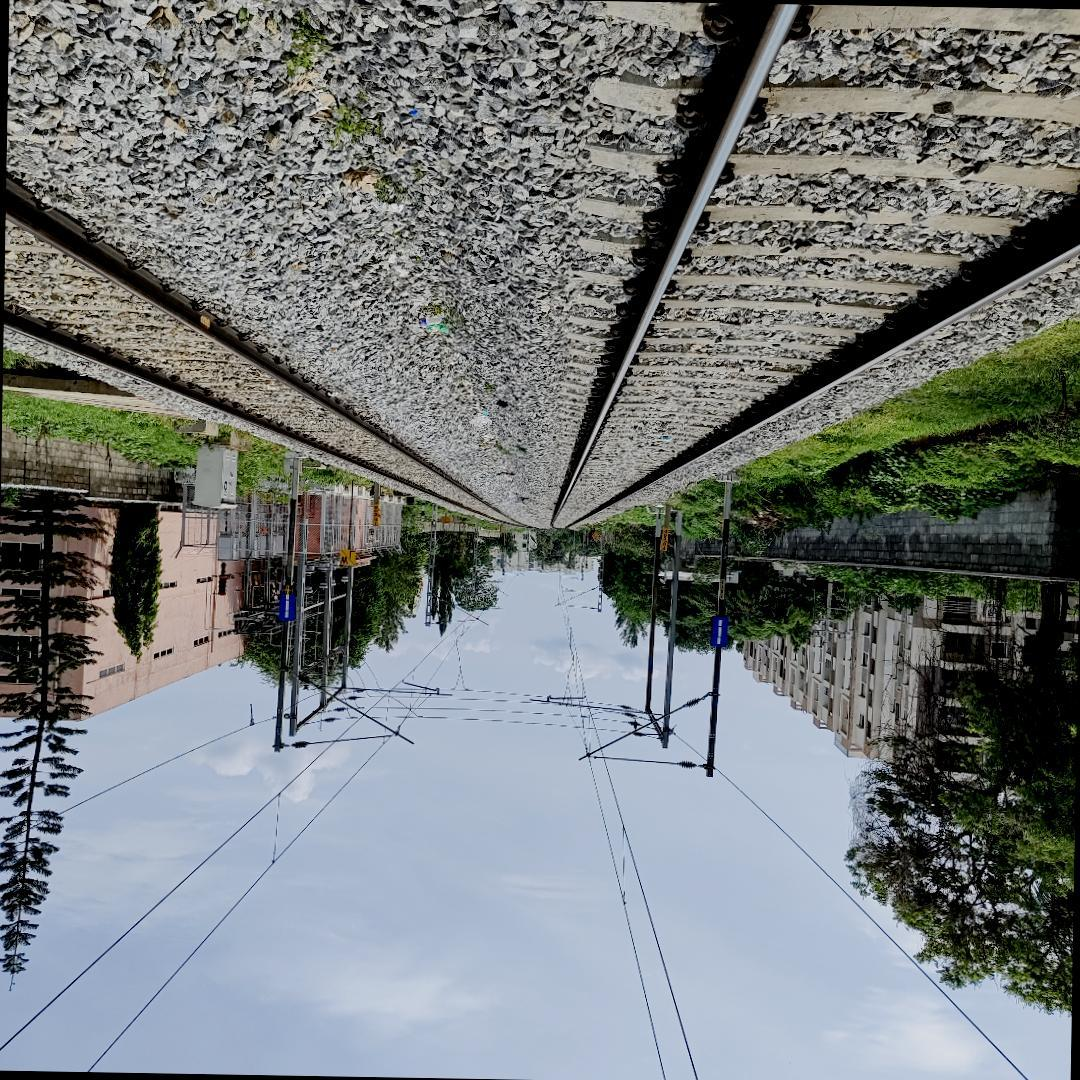track: (540, 12, 1080, 535), (3, 116, 525, 534)
